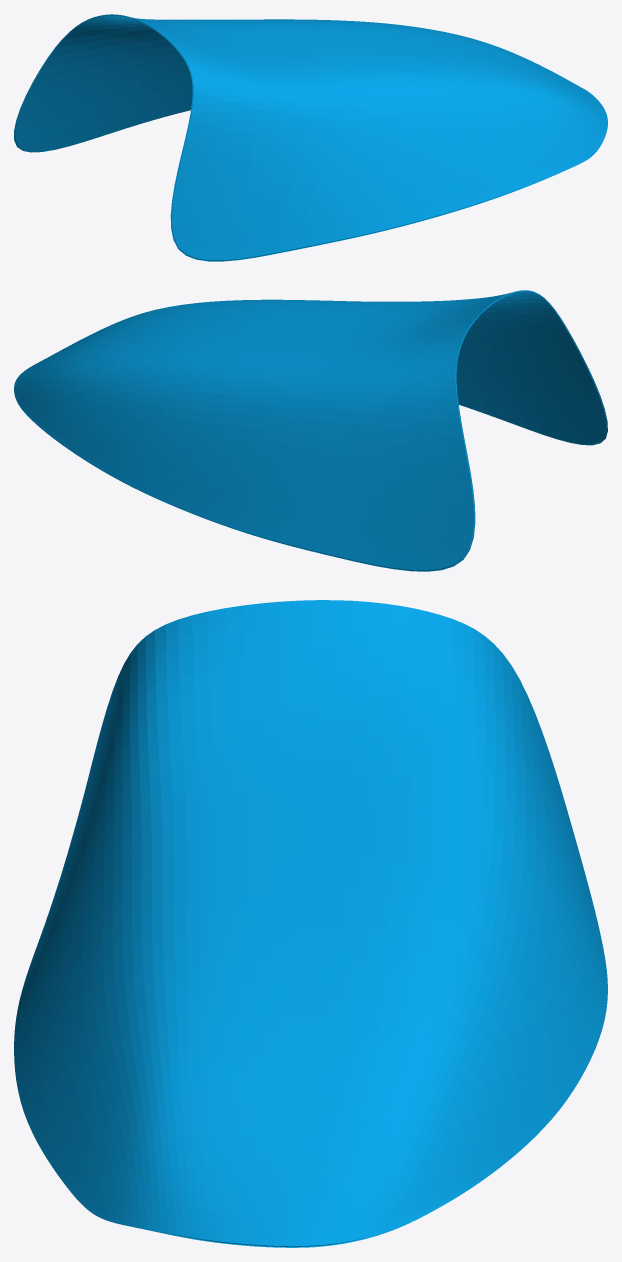
The model's file is frontLeftBlue.obj.
The picture shows the model from 3 angles, top to bottom: view 1: azimuth 30°, elevation 25°; view 2: azimuth 150°, elevation 25°; view 3: azimuth 270°, elevation 25°; orthographic projection. The views are drawn at different scales.
Visible parts, largest first — view 1: Plane; view 2: Plane; view 3: Plane.
Boxes of the visible parts, bbox=[...] form: Plane: bbox=[14, 14, 607, 261]; Plane: bbox=[14, 290, 607, 571]; Plane: bbox=[14, 600, 607, 1247].
Bounding box in the file's own units: 15.97 × 5.59 × 9.72.
Materials: 1 (1 with a texture image).
